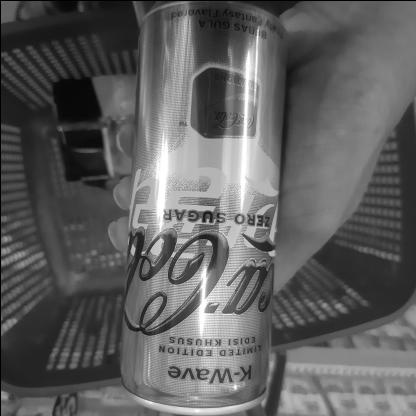alumunium_can: (100, 0, 300, 416)
